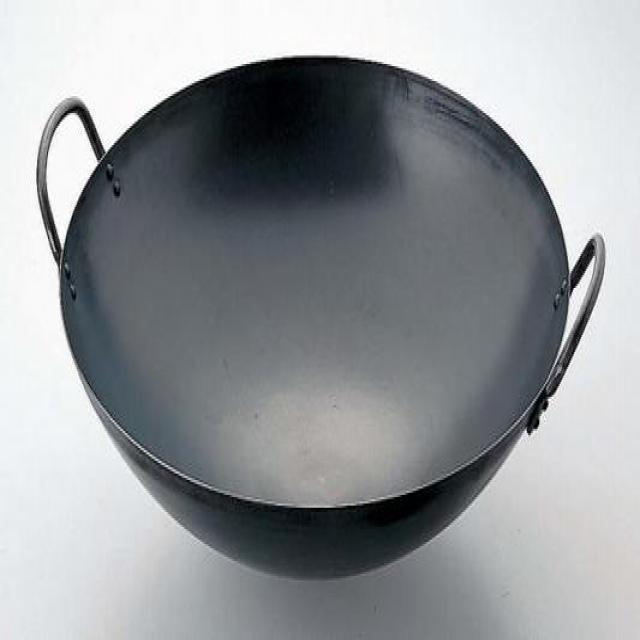recyclable: (37, 54, 606, 582)
